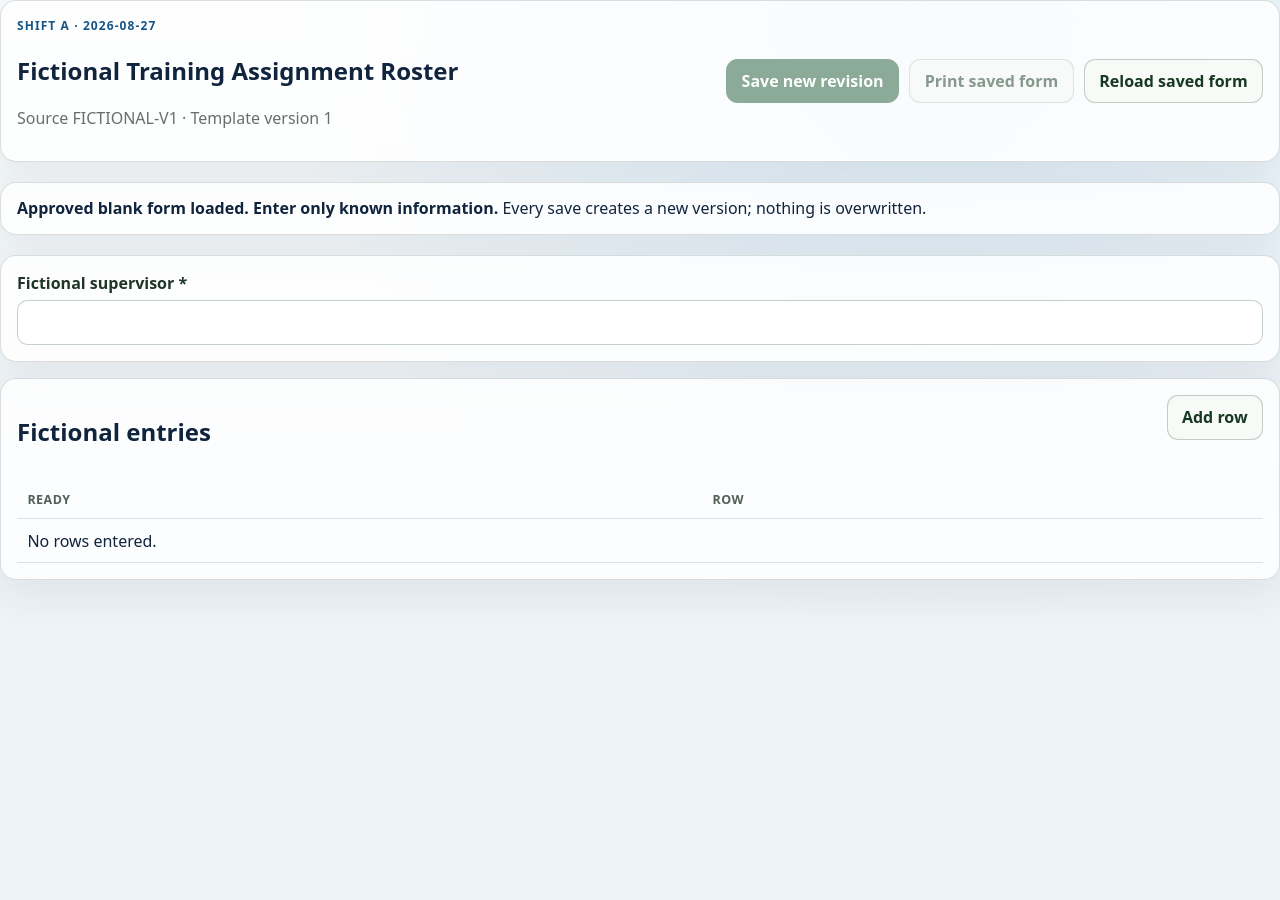
Test: DailyPaperworkWorkspace › renders the private schema, adds a row, and saves only entered values
Step 1. Type "Fictional Supervisor" into the field labelled "Fictional supervisor" → x=640, y=322, box [17,300,1263,345]
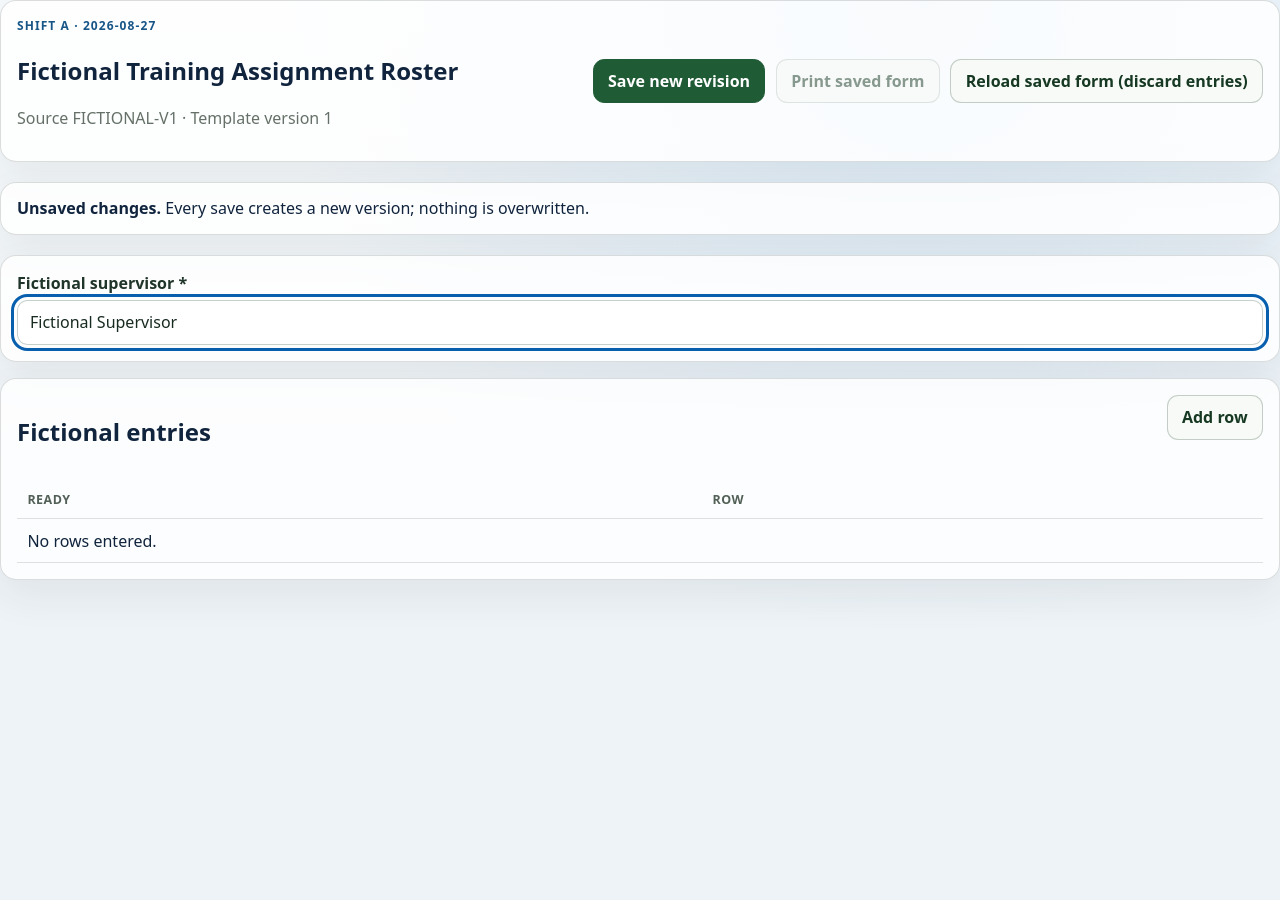
Step 2. Click the button "Add row" → x=1215, y=417, box [1166,395,1263,440]
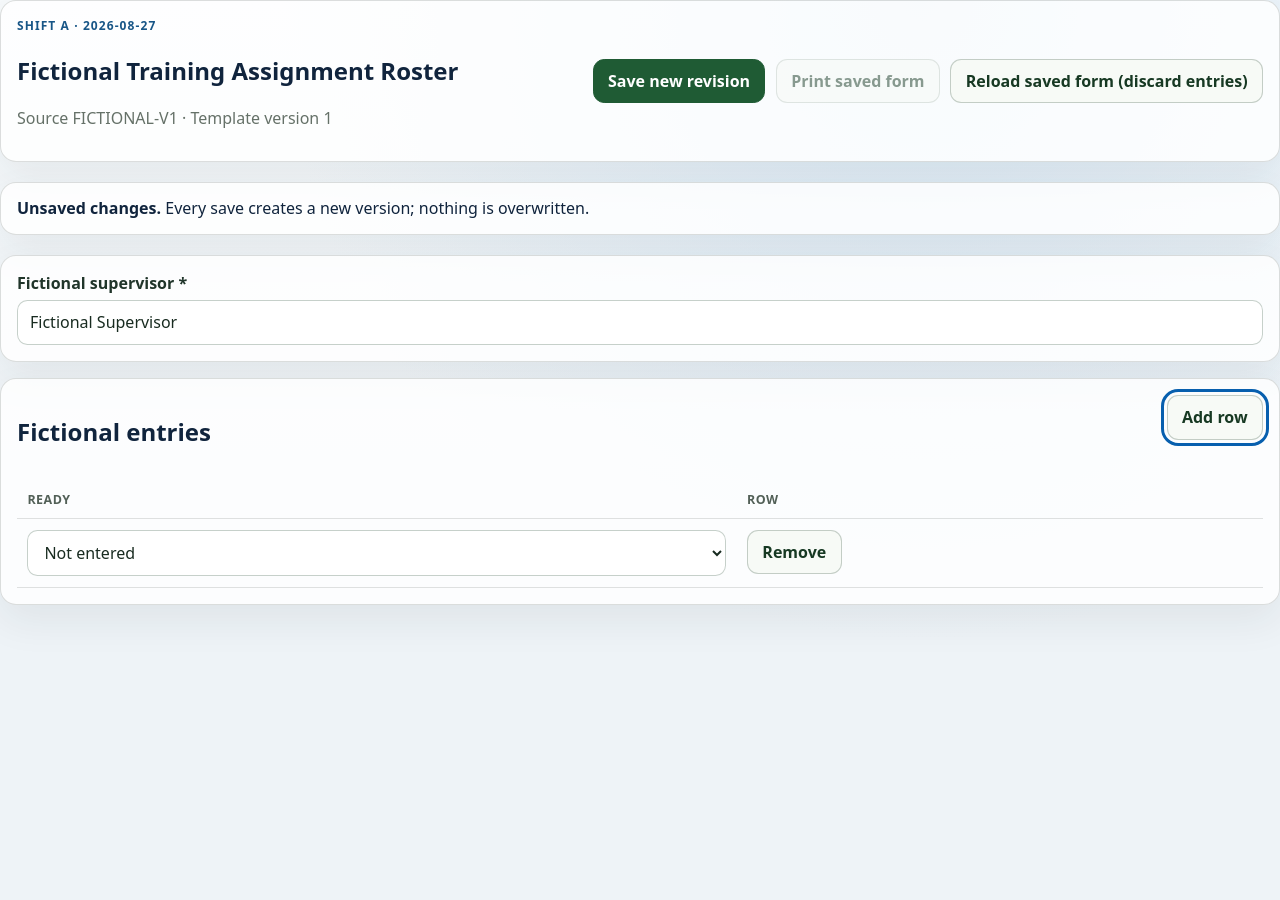
Step 3. Select "Yes" in the dropdown named "Ready" → x=377, y=553, box [27,530,726,576]
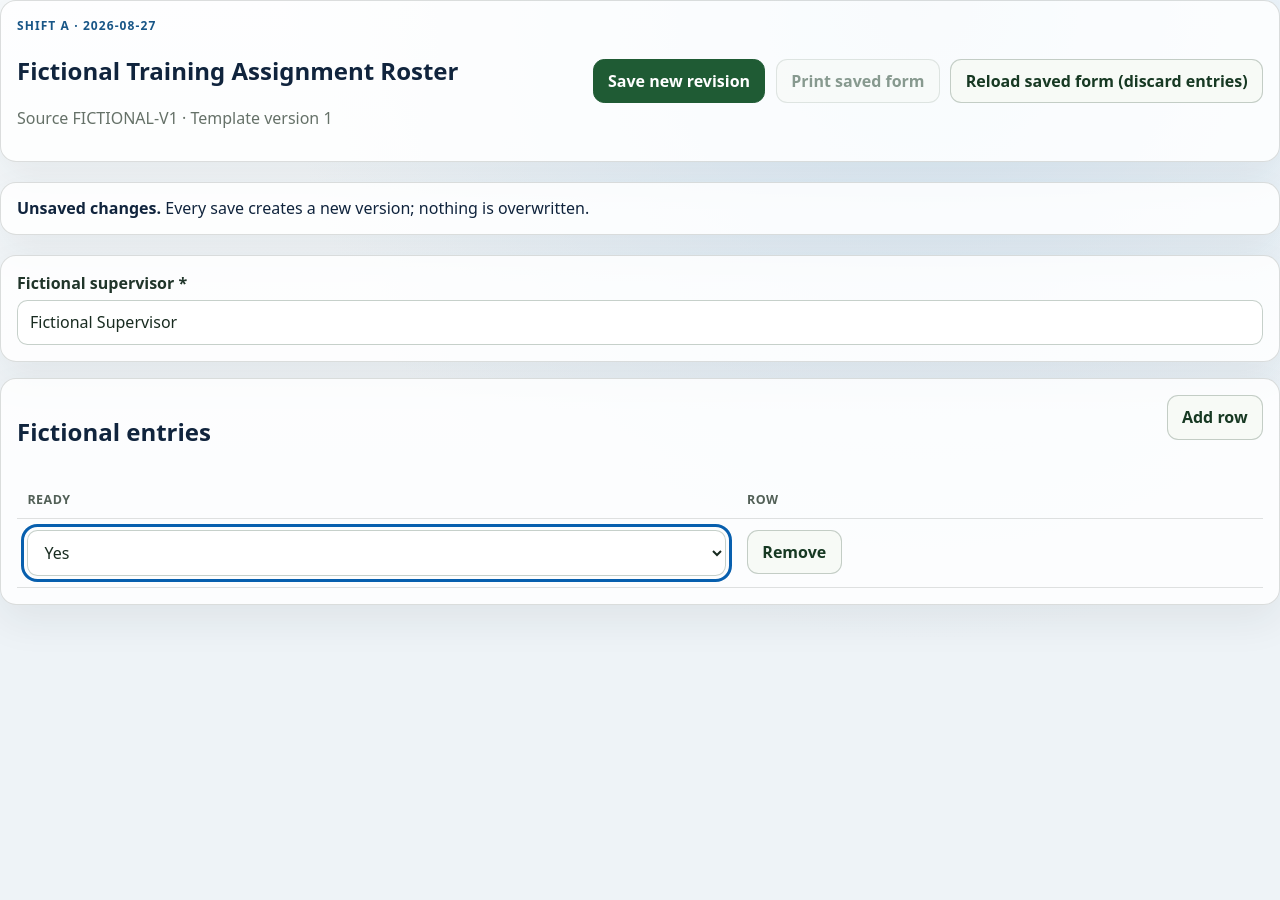
Step 4. Click the button "Save new revision" → x=679, y=81, box [593,58,765,103]
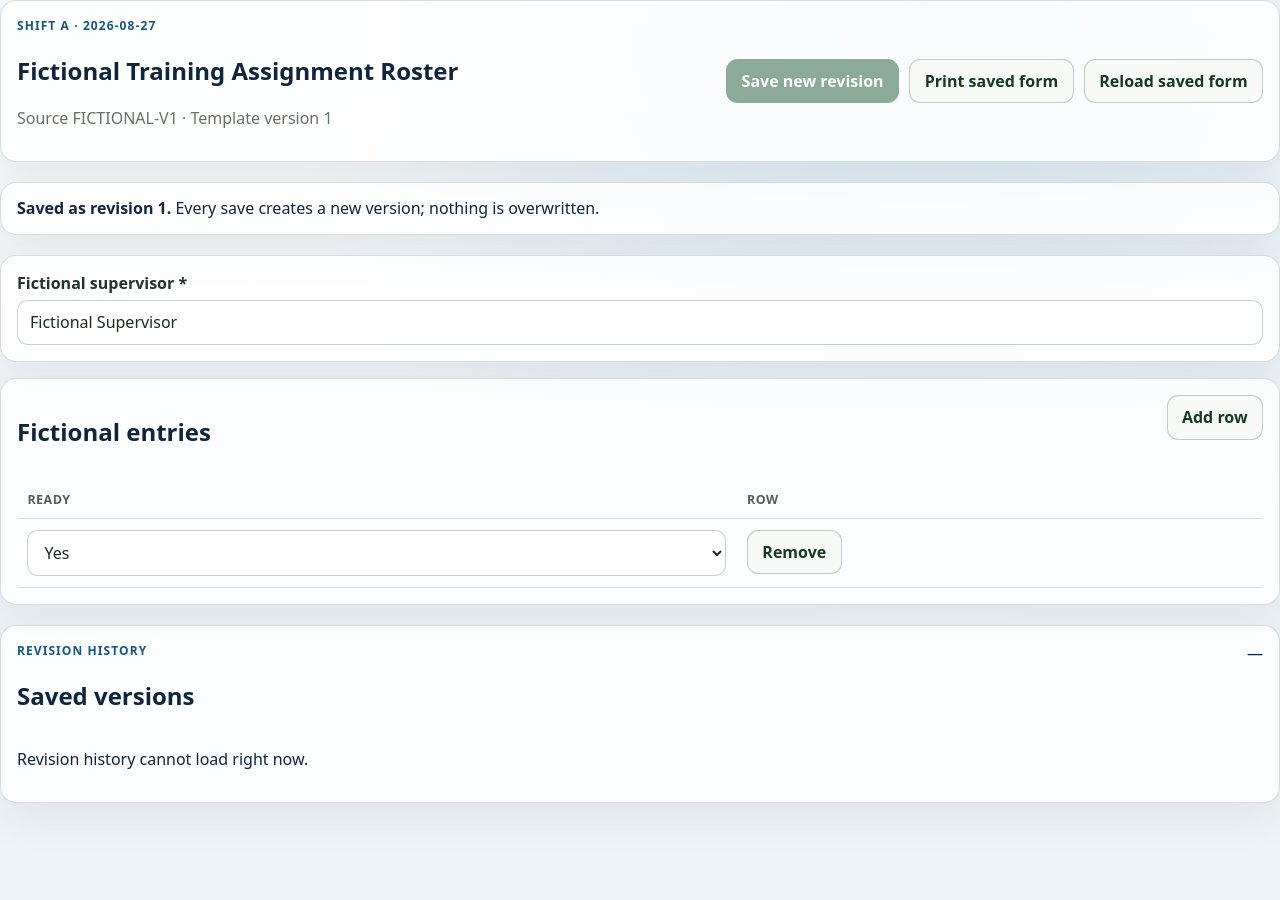
Check: the text "Saved as revision 1." is shown, box [17,197,171,219]
